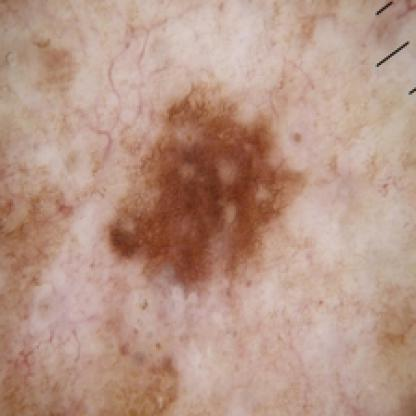benign: (106, 91, 321, 284)
